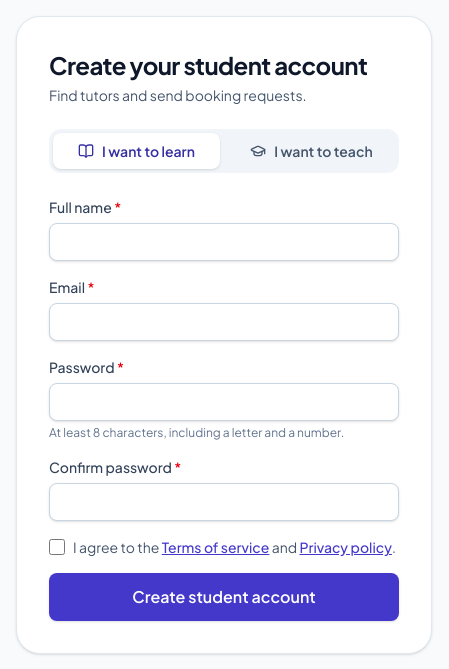
Test case: registration › shows a generic error when signup fails
Type "Tara Tutor" into the field labelled "Full name *".
click(224, 242); type("Tara Tutor")  # box [49, 223, 399, 261]
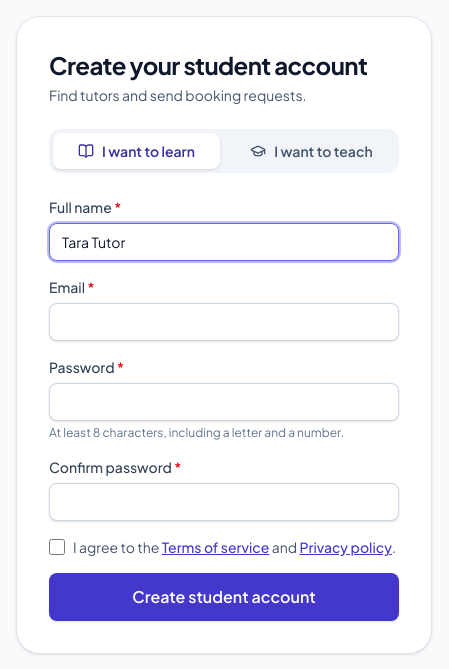
Type "tara@example.com" into the field labelled "Email *".
click(224, 322); type("tara@example.com")  # box [49, 303, 399, 341]
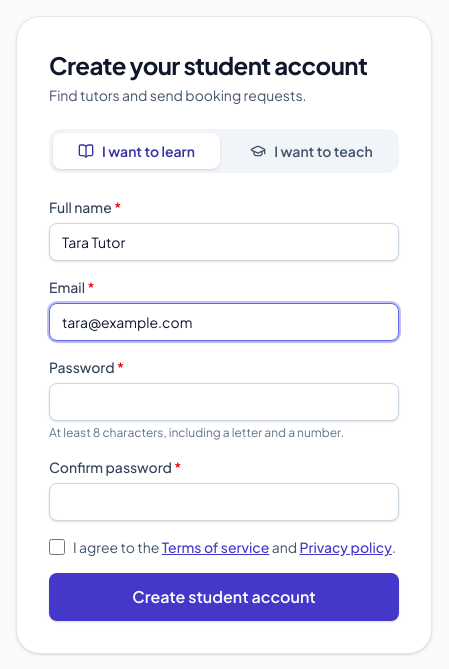
Type "secret123" into the password field labelled "Password *".
click(224, 402); type("secret123")  # box [49, 383, 399, 421]
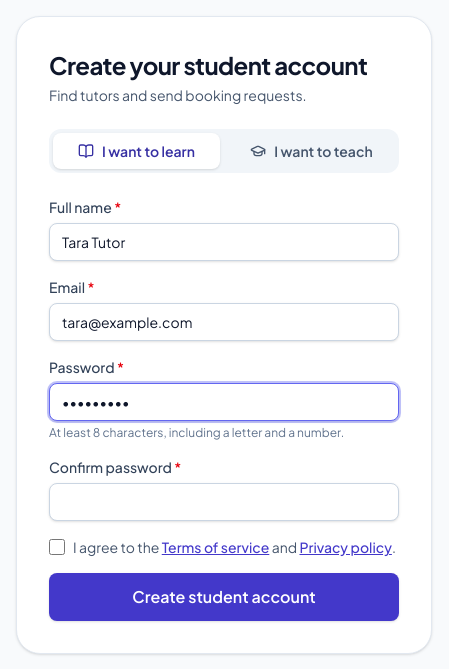
Type "secret123" into the password field labelled "Confirm password *".
click(224, 502); type("secret123")  # box [49, 483, 399, 521]
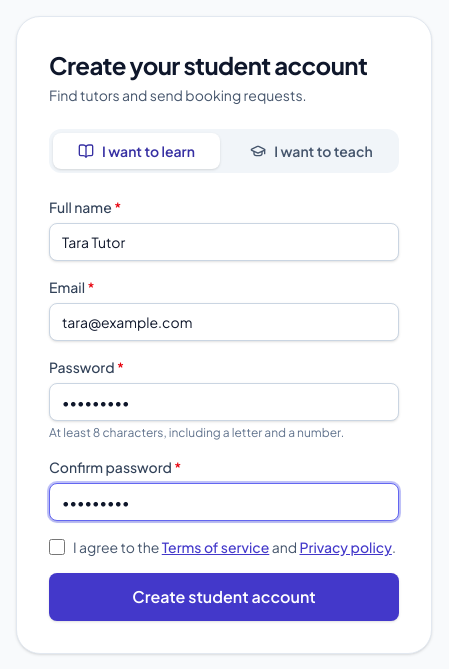
Click the checkbox.
click(57, 547)  # box [49, 539, 65, 555]
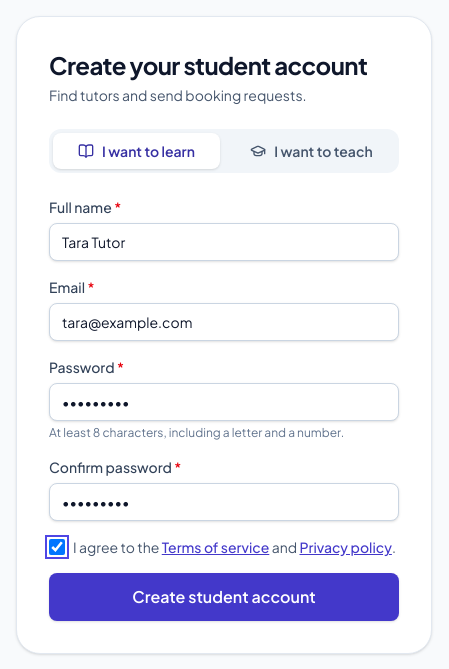
Click the button "Create student account".
click(224, 597)  # box [49, 573, 399, 621]
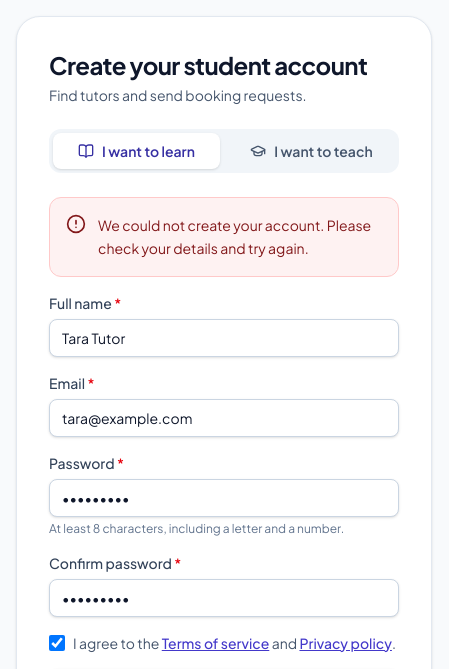
Expected: the message shows "could not create your account", [98, 216, 371, 257]
